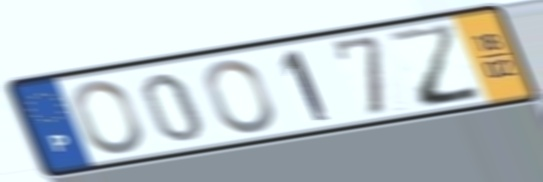0: (137, 71, 207, 144)
1: (279, 48, 332, 124)
7: (327, 32, 393, 118)
O: (201, 56, 278, 136), (70, 77, 146, 156)
Z: (384, 19, 488, 110)
